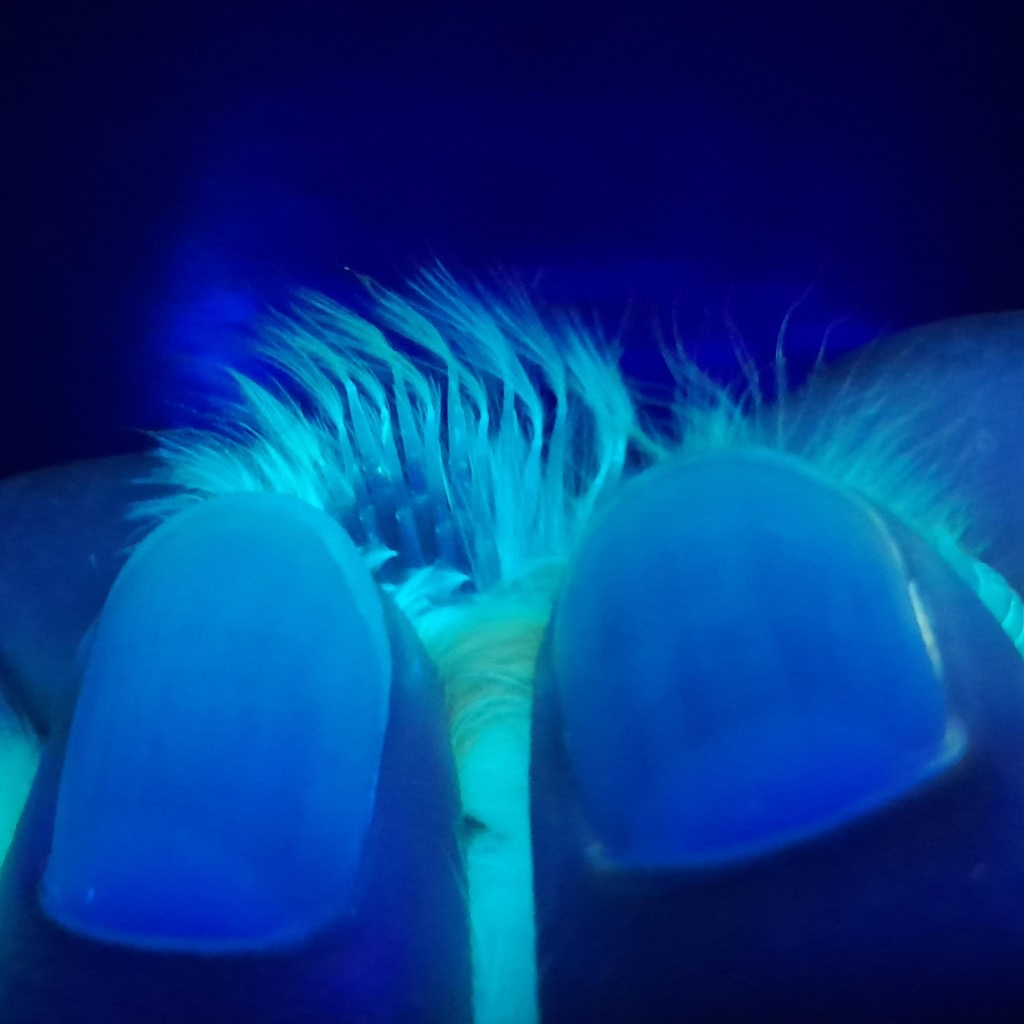female: (293, 357, 613, 598)
